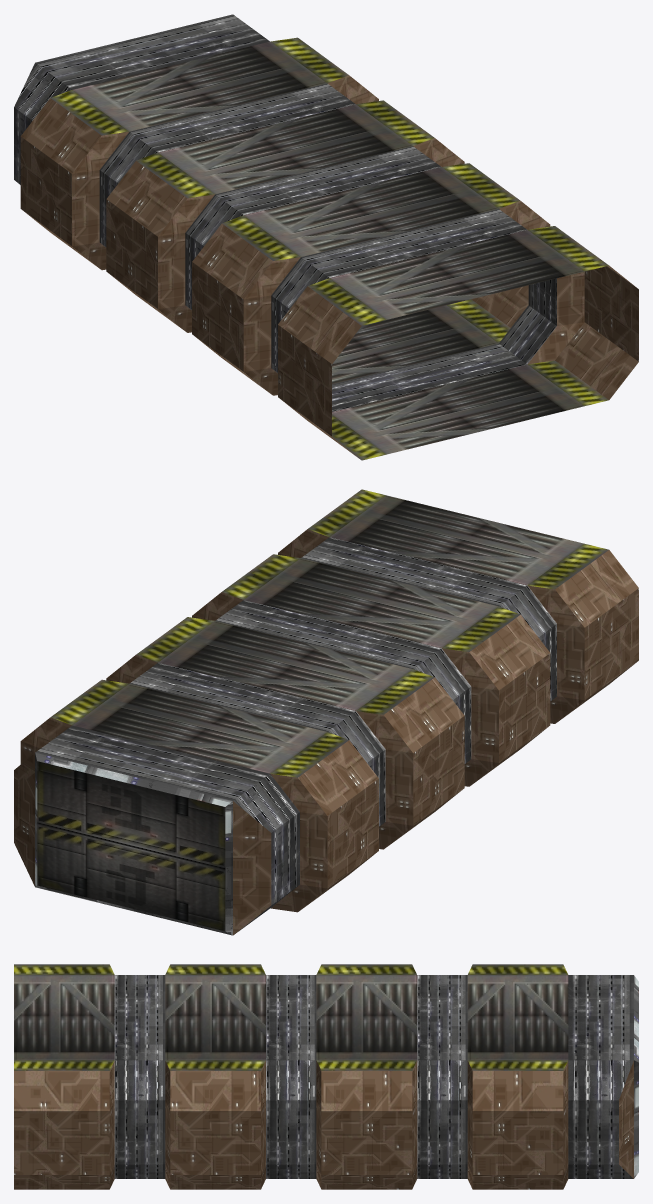
3 renders of one model, top to bottom at view 1: azimuth 30°, elevation 25°; view 2: azimuth 150°, elevation 25°; view 3: azimuth 270°, elevation 25°, orthographic. The views are drawn at different scales.
Parts seen in each view (by area): view 1: PartA03, PartA01, PartB04, PartA02, PartB01, PartC01, PartC02, PartD03, PartD02, PartC03, PartB02, PartD01 (+4 smaller); view 2: B_paranid, PartD01, PartA01, PartD02, PartB01, PartC01, PartD03, PartB04, PartA03, PartC02, PartB02, PartC03 (+6 smaller); view 3: PartD01, PartA01, PartC01, PartB01, PartD02, PartA02, PartB02, PartC03, PartC02, PartD03, PartA03, PartB04 (+5 smaller).
Boxes of the visible parts, x1,y1,x2,y2 form: PartA03: (330, 230, 583, 454); PartA01: (243, 201, 638, 458); PartB04: (244, 167, 498, 383); PartA02: (271, 209, 556, 411); PartB01: (158, 138, 528, 394); PartC01: (72, 75, 378, 331); PartC02: (158, 104, 412, 194); PartD03: (72, 41, 326, 131); PartD02: (14, 14, 269, 184); PartC03: (99, 83, 355, 247); PartB02: (185, 146, 440, 309); PartD01: (20, 98, 101, 268); B_paranid: (37, 761, 225, 930); PartD01: (14, 717, 378, 935); PartA01: (278, 529, 638, 723); PartD02: (35, 725, 299, 933); PartB01: (192, 592, 550, 786); PartC01: (106, 654, 464, 849); PartD03: (72, 683, 326, 773); PartB04: (244, 558, 498, 648); PartA03: (330, 495, 583, 585); PartC02: (158, 621, 412, 710); PartB02: (215, 600, 471, 763); PartC03: (130, 663, 385, 826); PartD01: (472, 1061, 633, 1189); PartA01: (14, 1061, 170, 1189); PartC01: (321, 1060, 472, 1189); PartB01: (170, 1060, 321, 1189); PartD02: (568, 975, 633, 1178); PartA02: (114, 975, 165, 1178); PartB02: (266, 975, 316, 1178); PartC03: (417, 975, 467, 1178); PartC02: (316, 975, 417, 1060); PartD03: (467, 975, 568, 1060); PartA03: (14, 975, 114, 1060); PartB04: (165, 975, 265, 1060).
Size of the model in its own units: 132 by 55.32 by 264.
Materials: 4 (4 with a texture image).
